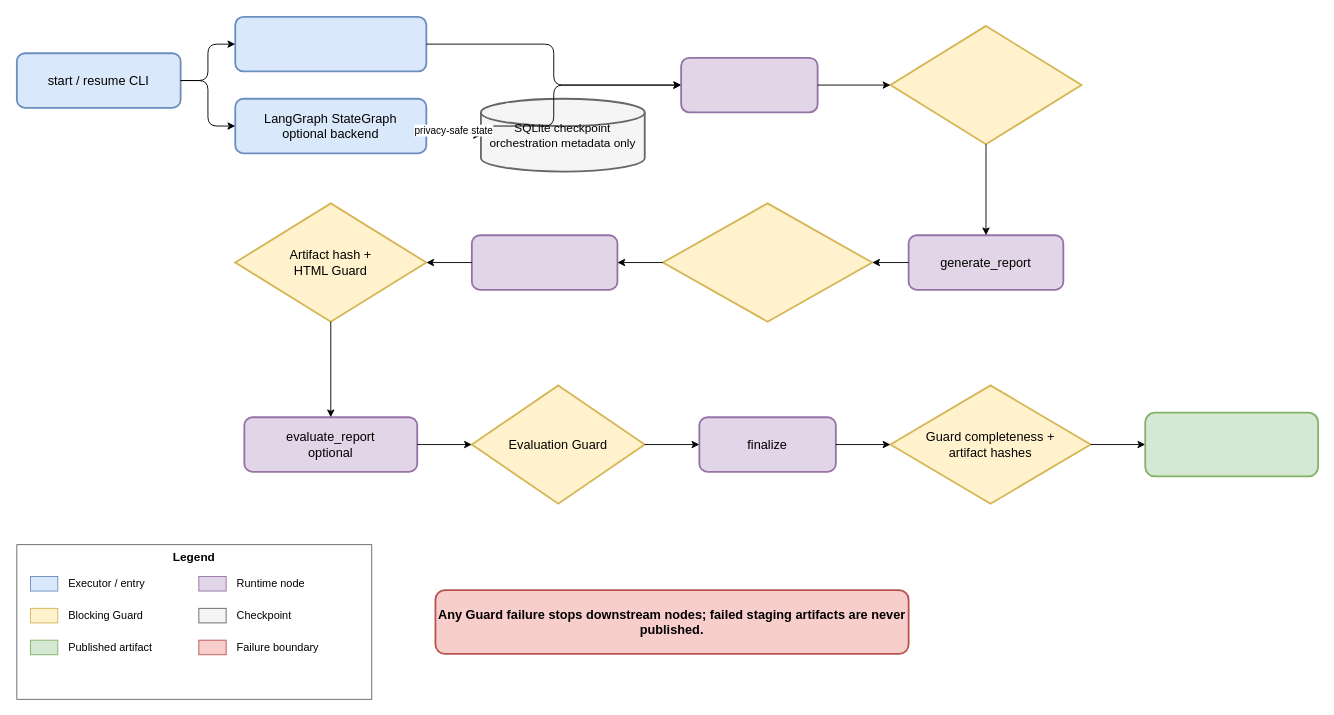
Image size: 1334x715. Some labels were removed from this diagram. The centre of each missing label's shape, as x and y in pixels:
Final HTML + provenance sidecar: pixel 1231 444
Native executor no extra dependency: pixel 330 43
prepare: pixel 749 84
Provenance + claim rules + semantic Guard: pixel 767 262
Schema + source-hash Guard: pixel 985 85
validate_report: pixel 544 262
